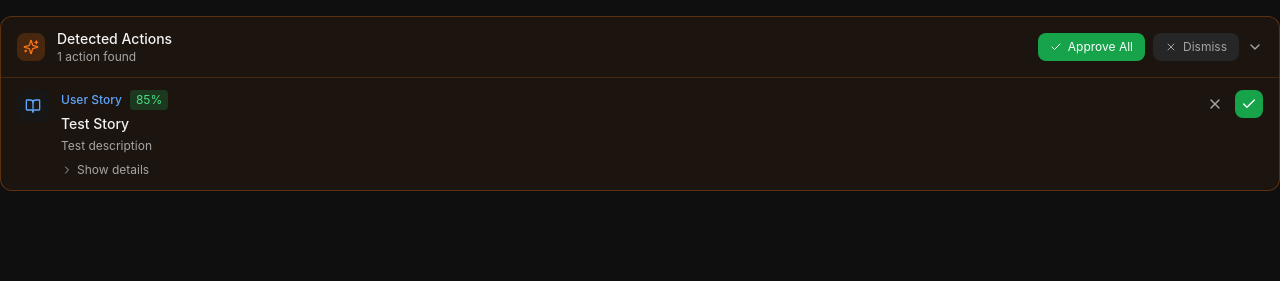
Test: ActionConfirmation › Approve Action › should show error state on execution failure
Click the button titled "Create" at (1249, 104), box [1235,90,1263,118]
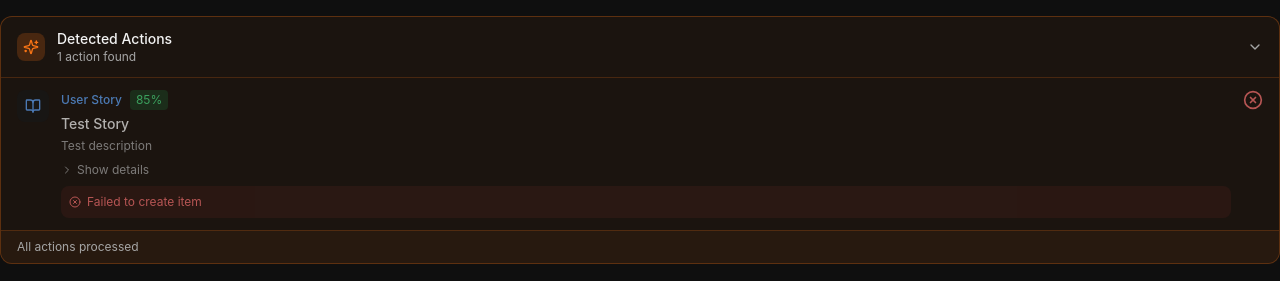
Expected: the text "Failed to create item" is shown, [69,194,202,209]
